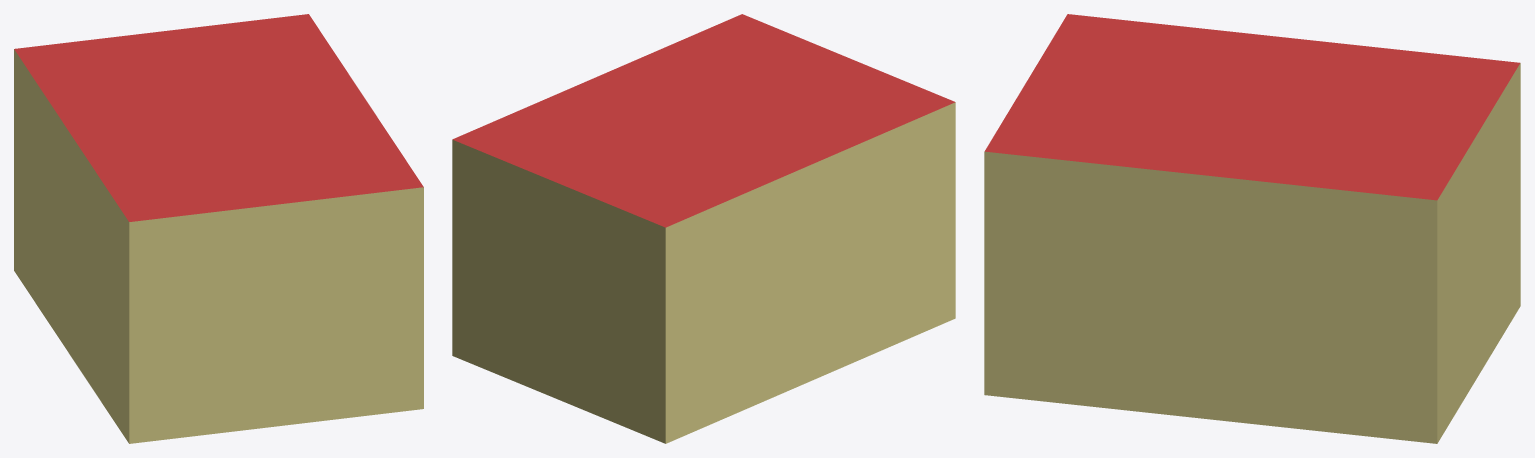
The picture shows the model from 3 angles, left to right: view 1: azimuth 30°, elevation 25°; view 2: azimuth 150°, elevation 25°; view 3: azimuth 270°, elevation 25°; orthographic projection. The views are drawn at different scales.
Parts seen in each view (by area): view 1: group_4, group_3; view 2: group_4, group_3; view 3: group_4, group_3.
Boxes of the visible parts, x1=… form: group_4: x1=14, y1=49, x2=423, y2=443; group_3: x1=14, y1=14, x2=423, y2=221; group_4: x1=452, y1=102, x2=955, y2=443; group_3: x1=452, y1=14, x2=955, y2=227; group_4: x1=984, y1=63, x2=1520, y2=443; group_3: x1=984, y1=14, x2=1519, y2=200.
Bounding box in the file's own units: 9.04 × 10.98 × 5.5.
